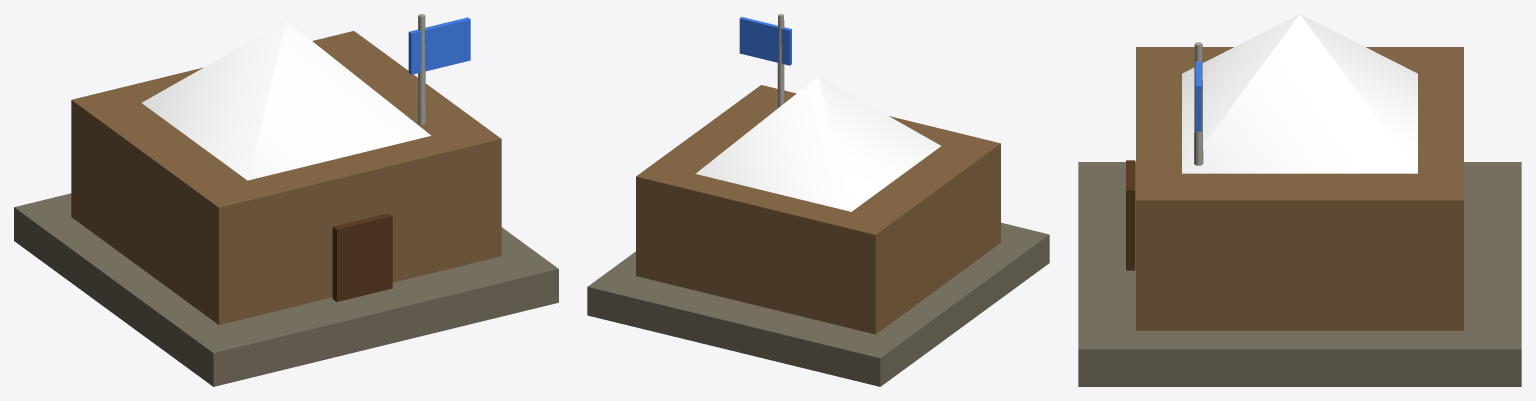
File: townhall.glb
3 renders of one model, left to right at view 1: azimuth 30°, elevation 25°; view 2: azimuth 150°, elevation 25°; view 3: azimuth 270°, elevation 25°, orthographic. The views are drawn at different scales.
Parts seen in each view (by area): view 1: townhall-main-hall, townhall-stone-footprint, townhall-broad-roof, townhall-front-door, townhall-team-standard, townhall-standard-pole; view 2: townhall-main-hall, townhall-stone-footprint, townhall-broad-roof, townhall-team-standard, townhall-standard-pole; view 3: townhall-main-hall, townhall-stone-footprint, townhall-broad-roof, townhall-front-door, townhall-standard-pole, townhall-team-standard.
Boxes of the visible parts, <box> form: townhall-main-hall: <box>71,31,501,324</box>; townhall-stone-footprint: <box>14,193,558,386</box>; townhall-broad-roof: <box>142,21,431,180</box>; townhall-front-door: <box>332,213,392,301</box>; townhall-team-standard: <box>408,17,470,74</box>; townhall-standard-pole: <box>417,14,425,124</box>; townhall-main-hall: <box>636,85,1000,334</box>; townhall-stone-footprint: <box>587,222,1049,386</box>; townhall-broad-roof: <box>695,76,940,211</box>; townhall-team-standard: <box>739,17,791,65</box>; townhall-standard-pole: <box>777,14,784,107</box>; townhall-main-hall: <box>1136,47,1463,330</box>; townhall-stone-footprint: <box>1078,162,1521,386</box>; townhall-broad-roof: <box>1182,14,1417,173</box>; townhall-front-door: <box>1126,160,1135,270</box>; townhall-standard-pole: <box>1194,42,1203,165</box>; townhall-team-standard: <box>1195,61,1201,131</box>.
Bounding box in the file's own units: 3.85 × 2.85 × 3.85.
